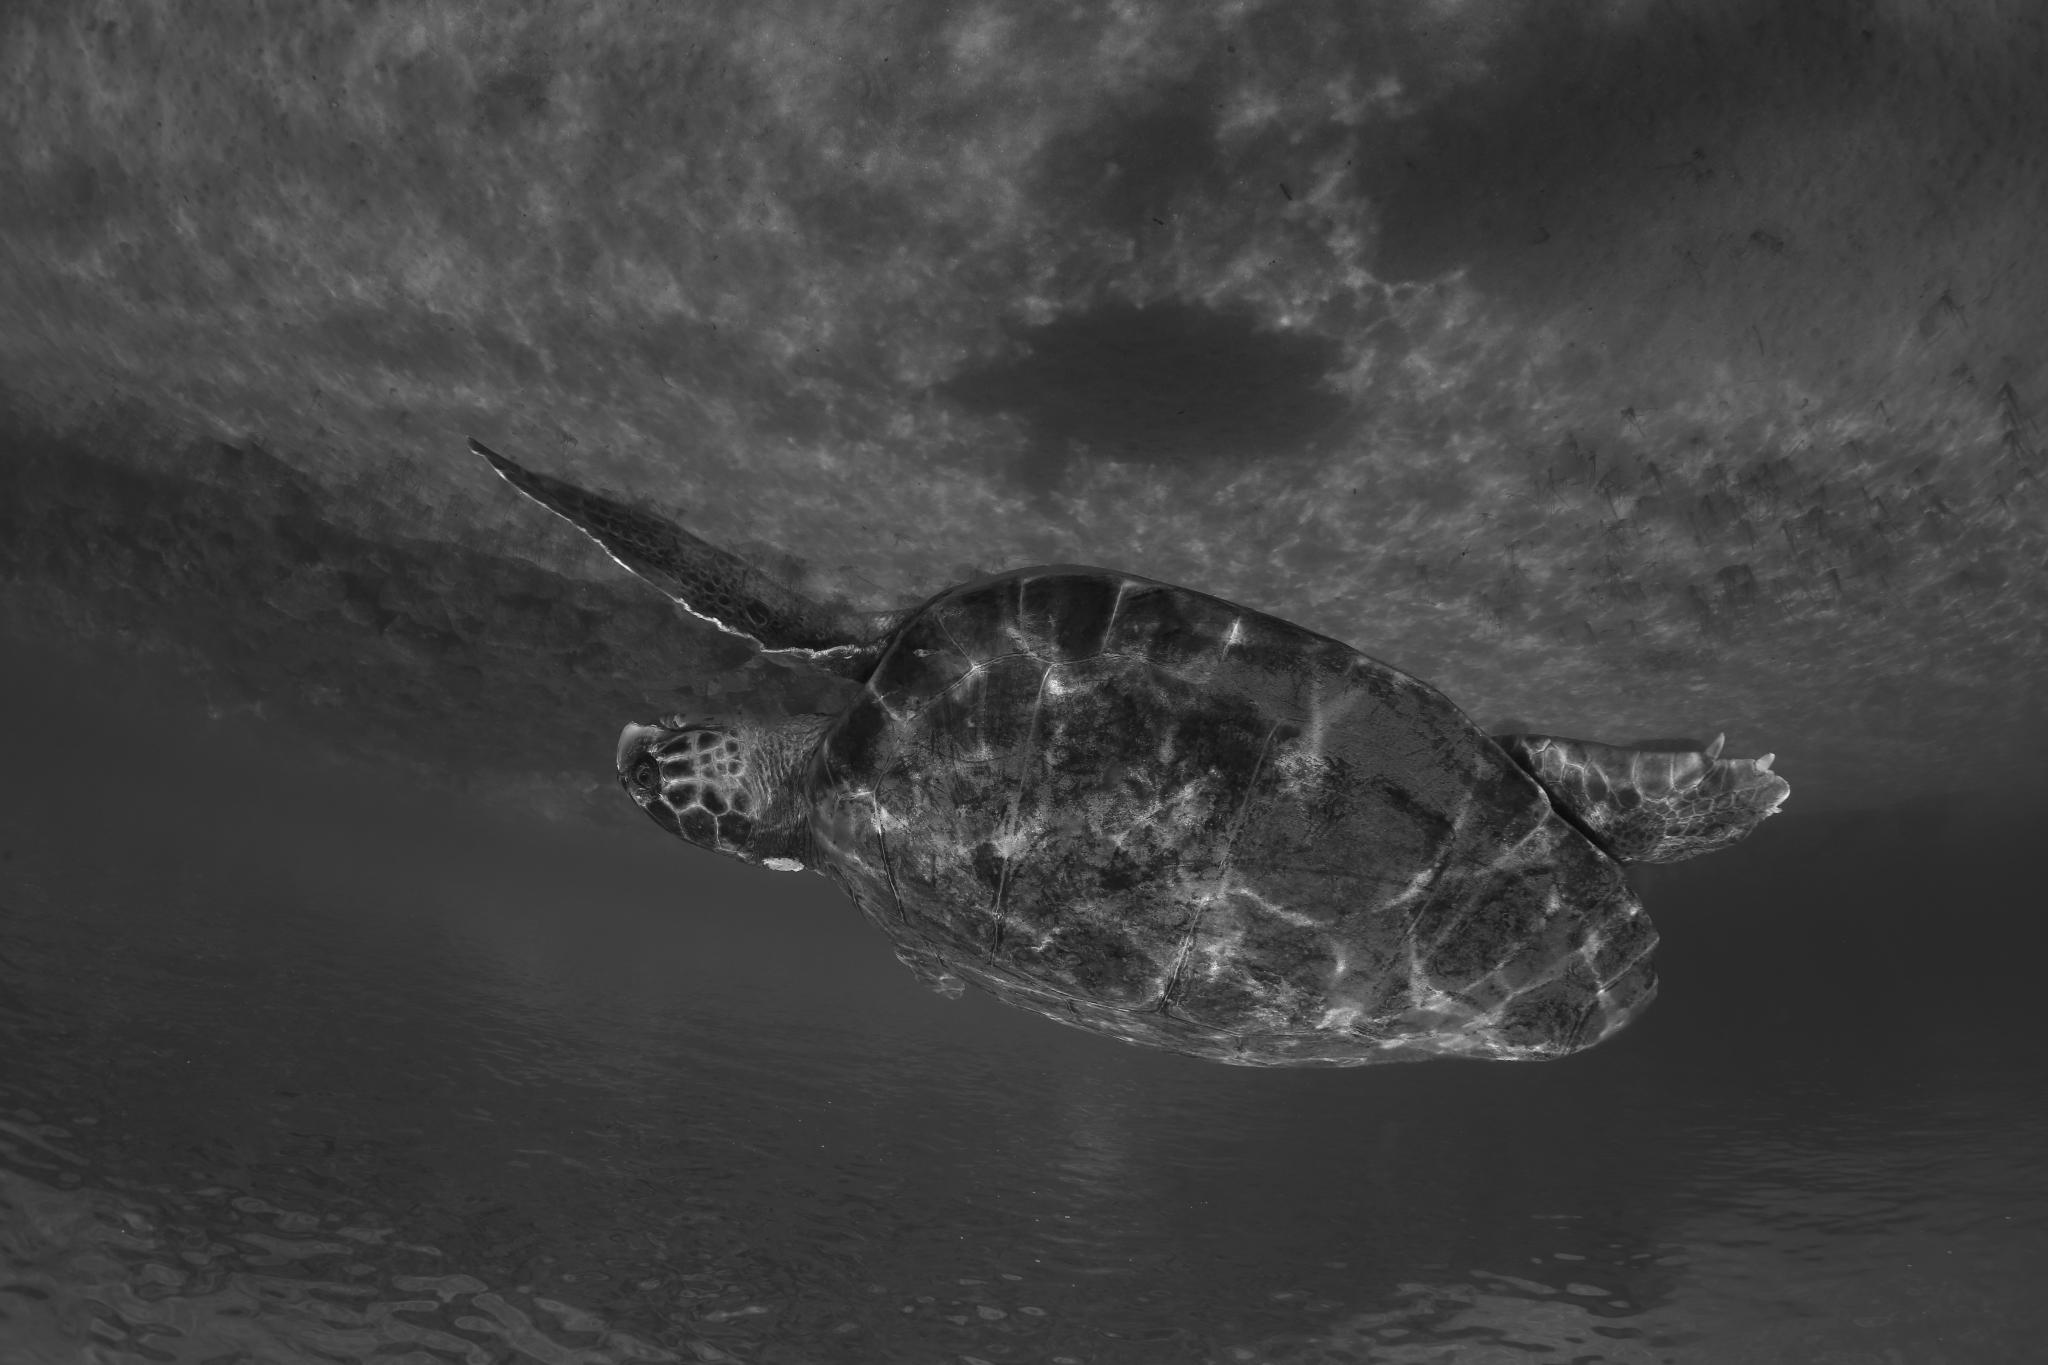Head: (617, 714, 836, 871)
